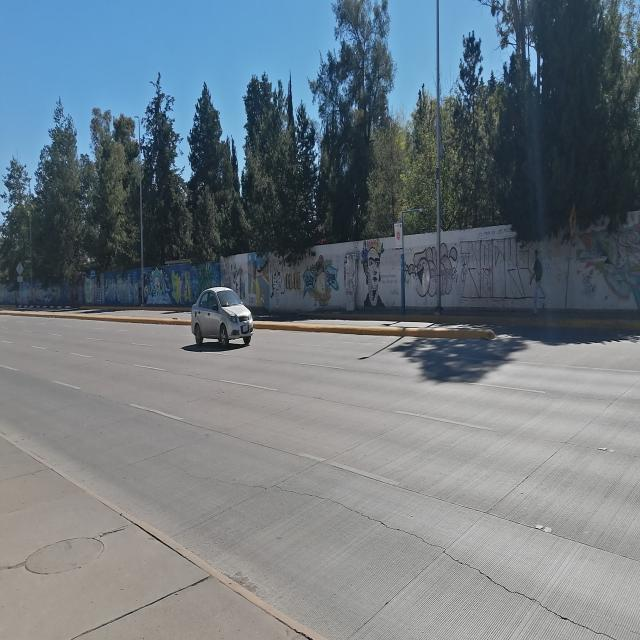Auto: (189, 281, 255, 355)
Peaton: (528, 245, 550, 321)
